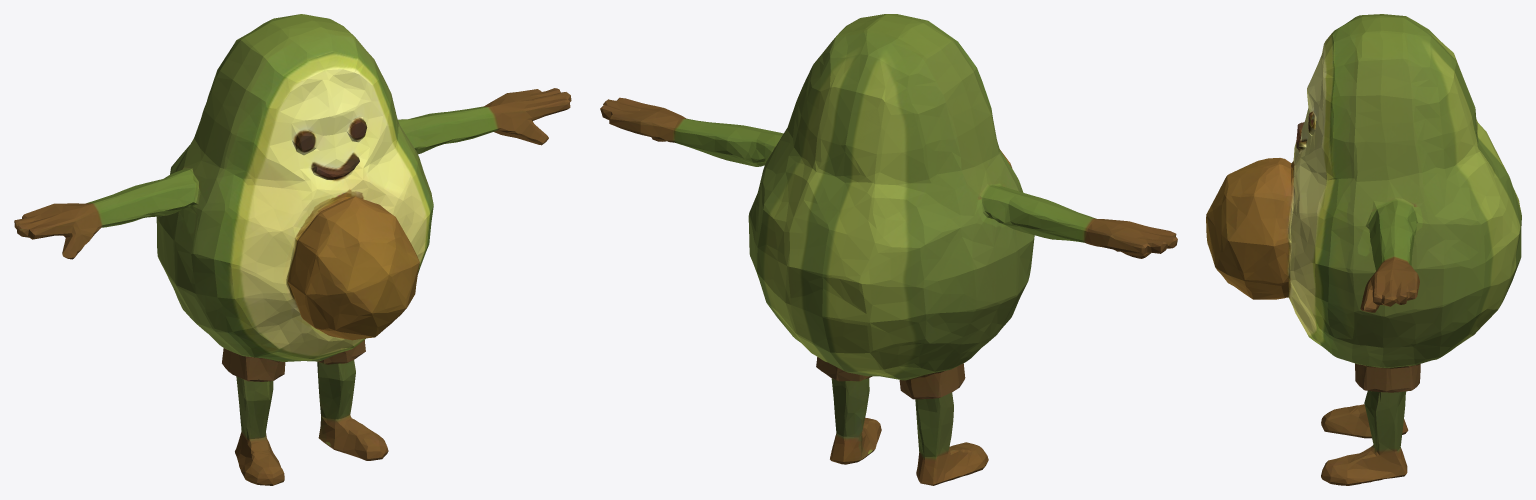
Rendered from large-organic-hass-avocado-usda-organic.glb.
3 views of the same model, side by side, from view 1: azimuth 30°, elevation 25°; view 2: azimuth 150°, elevation 25°; view 3: azimuth 270°, elevation 25° (orthographic). The views are drawn at different scales.
Parts seen in each view (by area): view 1: tmpxj1vqndx.ply; view 2: tmpxj1vqndx.ply; view 3: tmpxj1vqndx.ply.
Boxes of the visible parts, x1,y1,x2,y2 form: tmpxj1vqndx.ply: (14,14,571,485); tmpxj1vqndx.ply: (600,14,1177,485); tmpxj1vqndx.ply: (1206,14,1521,485).
Size of the model in its own units: 1.99 by 1.47 by 0.9839.
Materials: 1 (1 with a texture image).
